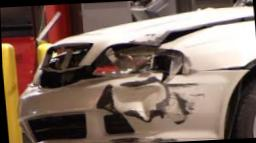Bonnet: (77, 9, 254, 68)
Bumper: (75, 69, 247, 143), (15, 89, 92, 143)
Fender: (161, 21, 256, 72)
Light: (88, 44, 183, 77)
